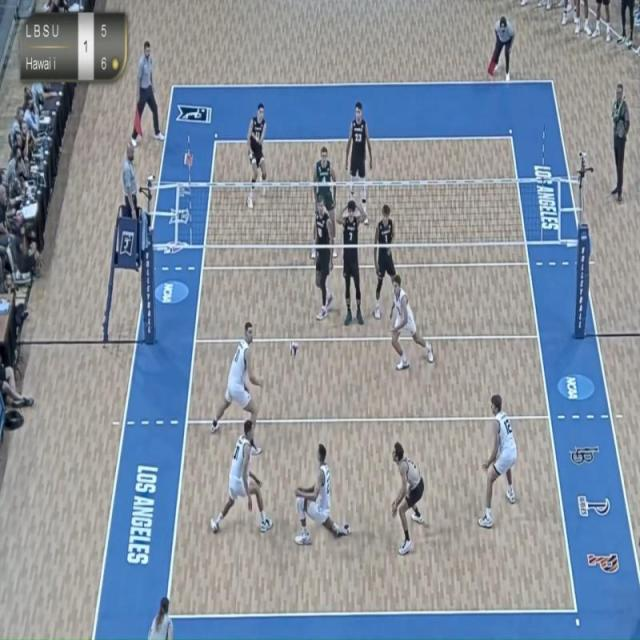volleyball: (288, 337, 301, 361)
